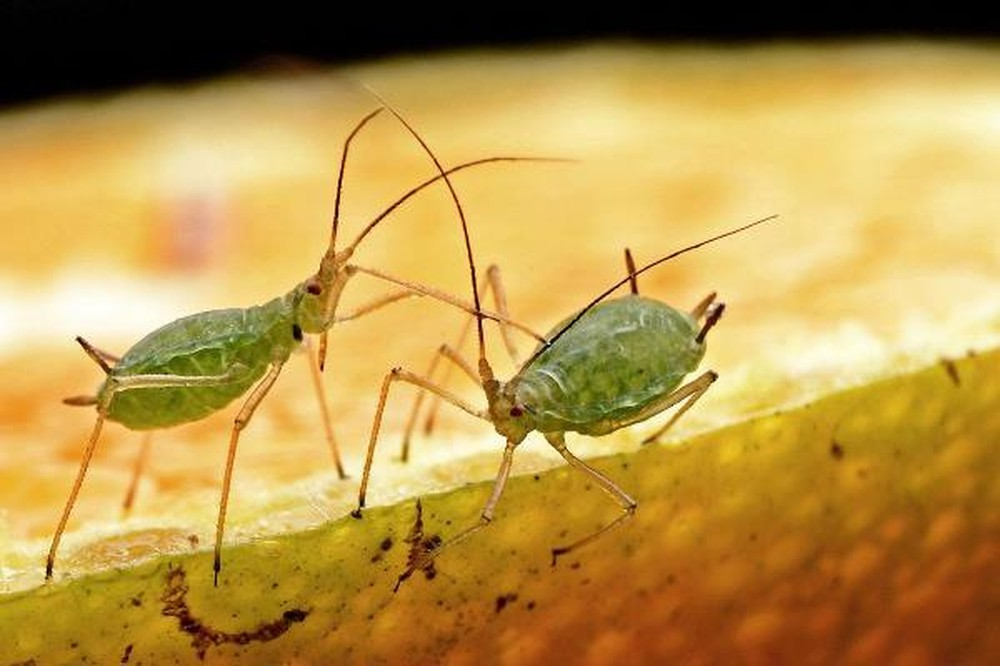Pulgon: (49, 163, 430, 546), (372, 242, 783, 579)
